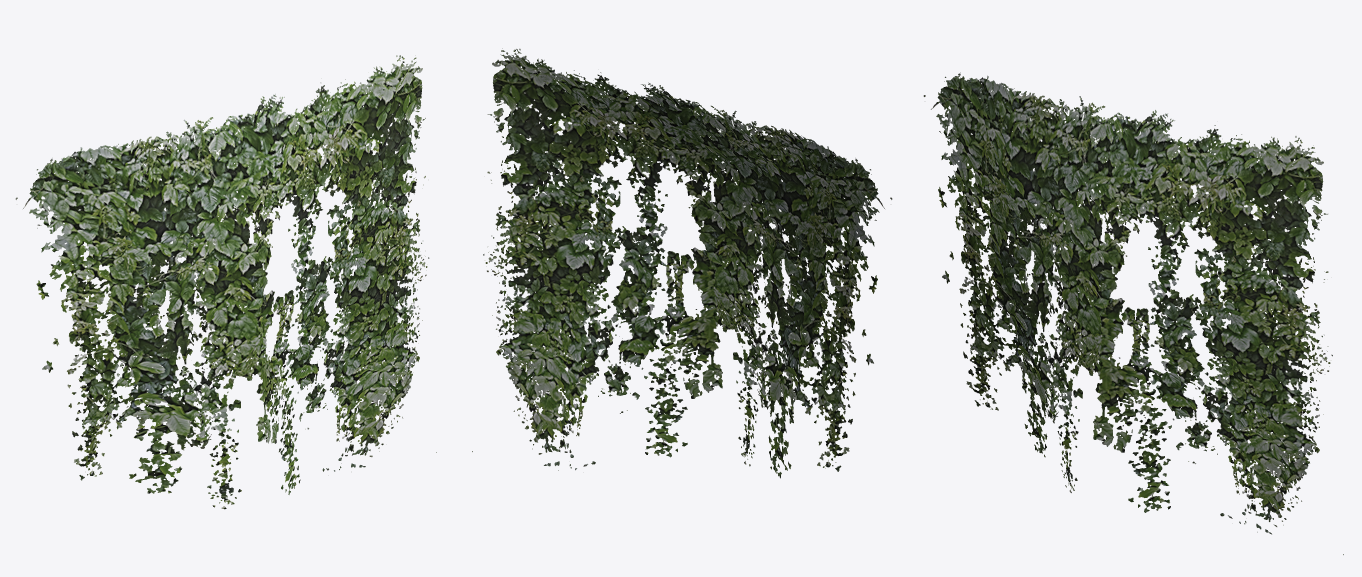
Rendered from RV_Wall_Vines_01.fbx.
3 renders of one model, left to right at view 1: azimuth 30°, elevation 25°; view 2: azimuth 150°, elevation 25°; view 3: azimuth 330°, elevation 25°, orthographic.
Parts seen in each view (by area): view 1: RV_Wall_Vines_01; view 2: RV_Wall_Vines_01; view 3: RV_Wall_Vines_01.
Boxes of the visible parts, box(x1,y1,x2,y2) form: RV_Wall_Vines_01: box(15, 55, 436, 509); RV_Wall_Vines_01: box(472, 48, 892, 478); RV_Wall_Vines_01: box(923, 72, 1343, 554).
Size of the model in its own units: 179 by 179 by 29.84.
